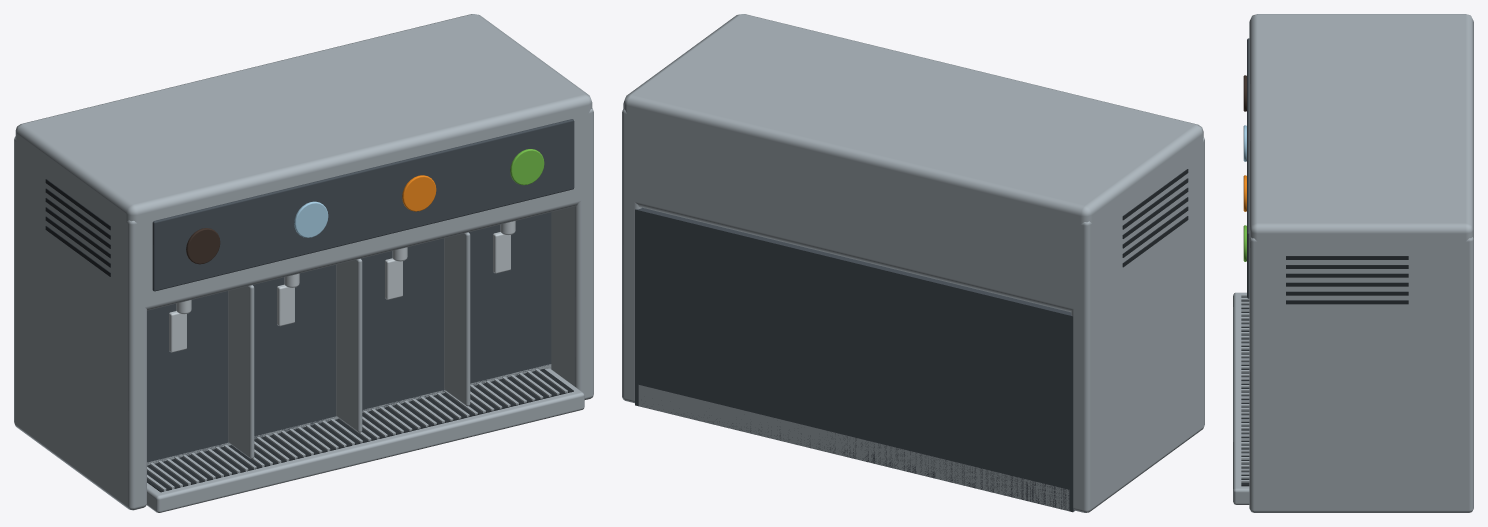
File: SM_DrinkMachine.glb
The picture shows the model from 3 angles, left to right: view 1: azimuth 30°, elevation 25°; view 2: azimuth 150°, elevation 25°; view 3: azimuth 270°, elevation 25°; orthographic projection. The views are drawn at different scales.
Parts seen in each view (by area): view 1: SM_DrinkMachine, Lever_3, Lever_2, Lever_1, Lever_4; view 2: SM_DrinkMachine; view 3: SM_DrinkMachine.
Part boxes in pixels (x1,y1,x2,y2): SM_DrinkMachine: (14,14,593,512); Lever_3: (385,258,402,299); Lever_2: (277,284,294,326); Lever_1: (169,311,186,352); Lever_4: (493,232,510,273); SM_DrinkMachine: (622,14,1204,512); SM_DrinkMachine: (1233,14,1473,512).
Size of the model in its own units: 1.25 by 0.78 by 0.59.
Materials: 3 (3 with a texture image).
